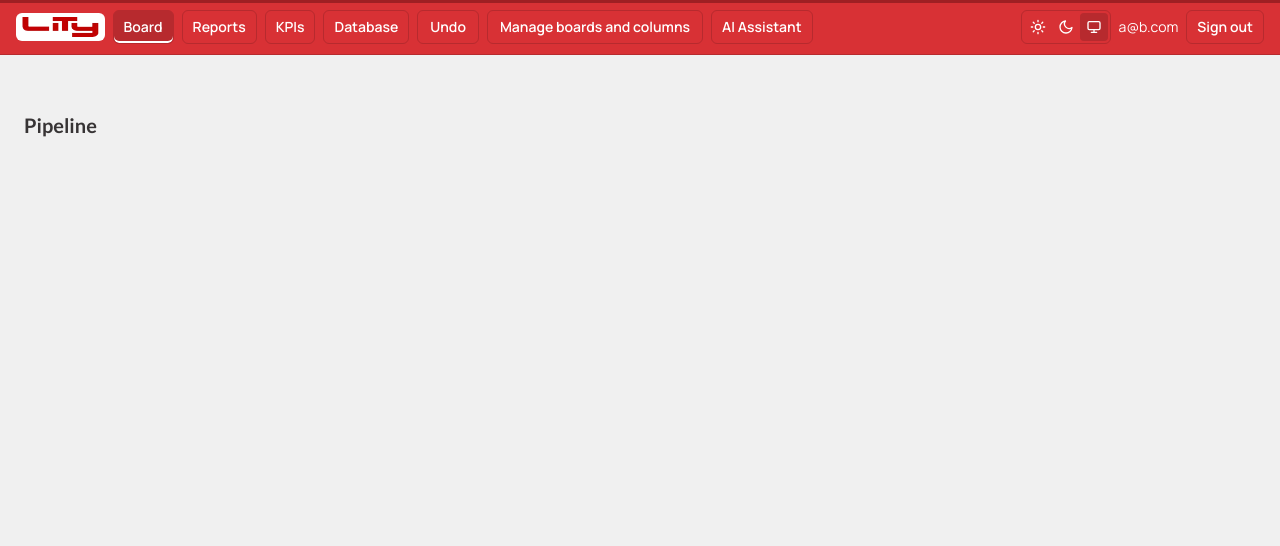
it: CentralApp sections › offers a company Admin the Database section but not Users
Expected: the element with test id "central-board" is shown, 24,113 -> 97,137
Click the button "Database" at {"x": 366, "y": 27}, box 324,10 -> 409,44
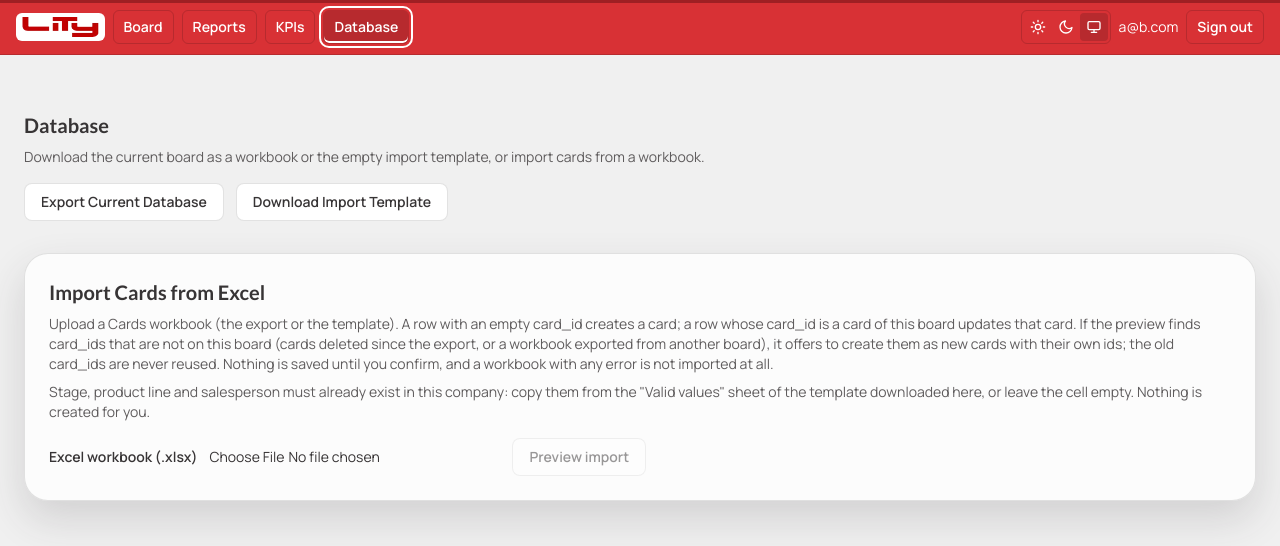
Expected: the button "Export Current Database" is shown, 24,183 -> 224,221
